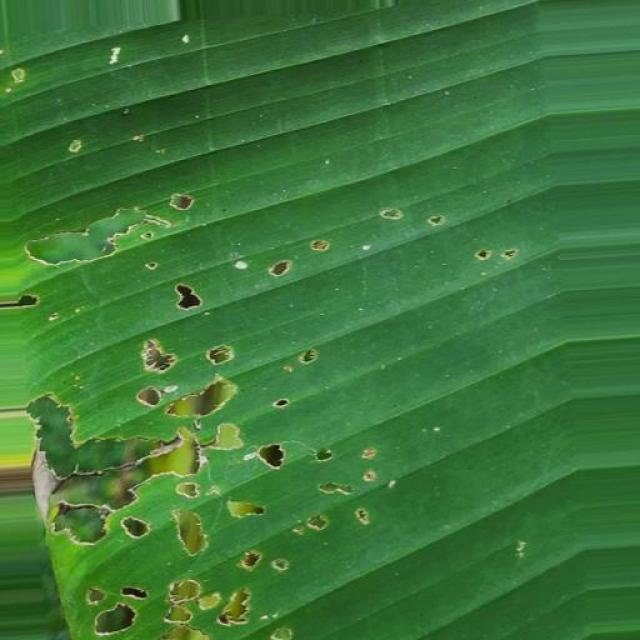Black_rot: (0, 14, 529, 640)
